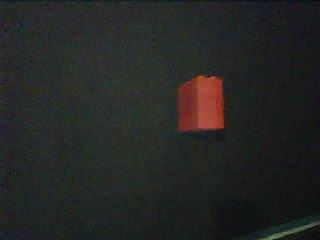lego: (175, 74, 225, 134)
